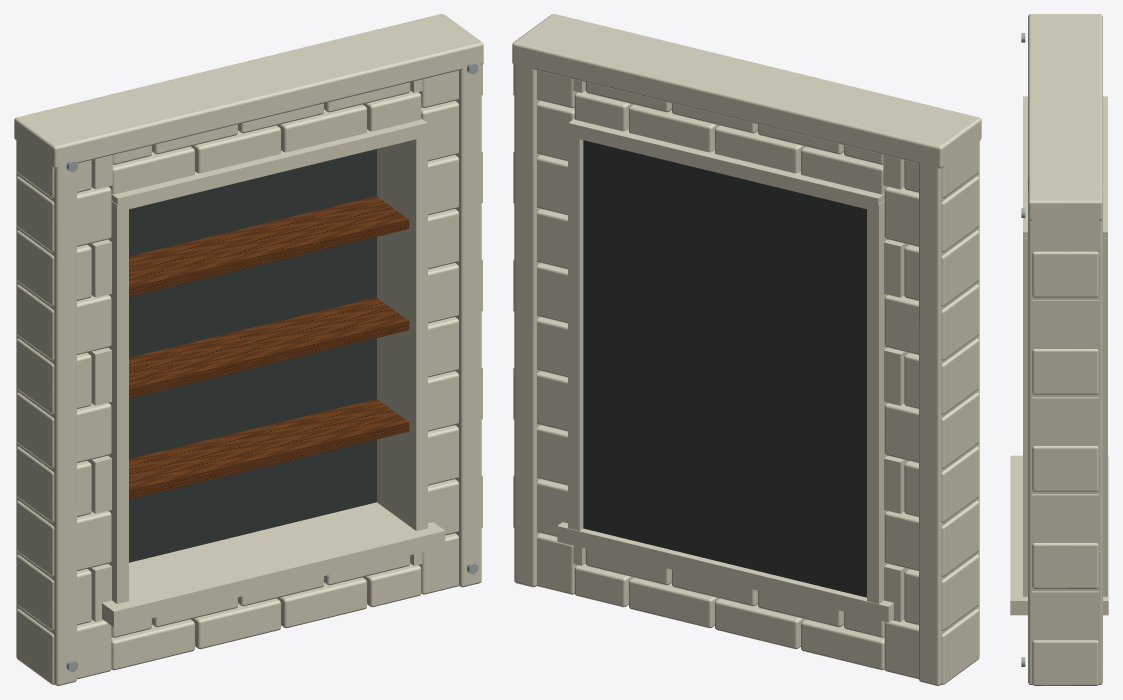
Rendered from bunker-shelter-construction-shelter-storage-wall-2cc36e84__23287.glb.
3 views of the same model, side by side, from view 1: azimuth 30°, elevation 25°; view 2: azimuth 150°, elevation 25°; view 3: azimuth 270°, elevation 25° (orthographic). The views are drawn at different scales.
Visible parts, largest first — view 1: shelter-storage-wall; view 2: shelter-storage-wall; view 3: shelter-storage-wall.
Part boxes in pixels (box(x1,y1,x2,y2)): shelter-storage-wall: box(14, 14, 483, 685); shelter-storage-wall: box(512, 14, 981, 685); shelter-storage-wall: box(1010, 14, 1108, 685).
Bounding box in the file's own units: 2 × 2.4 × 0.4401.
Materials: 4 (1 with a texture image).
